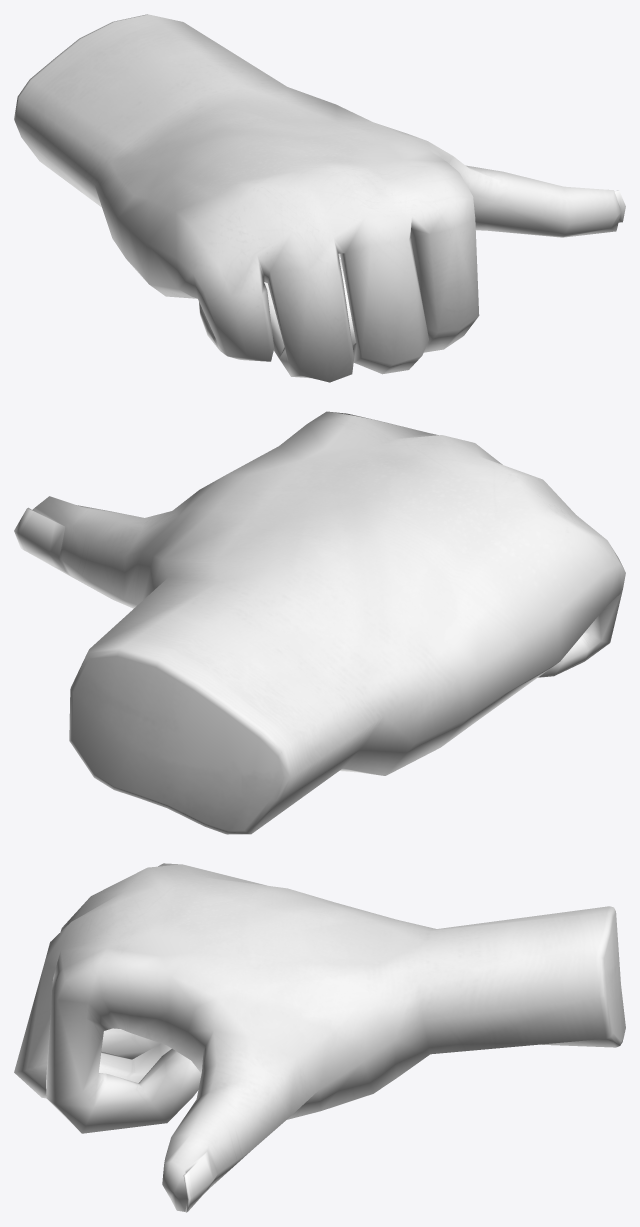
Rendered from r_smooth_thumbsUp.glb.
3 renders of one model, top to bottom at view 1: azimuth 30°, elevation 25°; view 2: azimuth 150°, elevation 25°; view 3: azimuth 270°, elevation 25°, orthographic. The views are drawn at different scales.
Parts seen in each view (by area): view 1: R_Smooth_ThumbsUp; view 2: R_Smooth_ThumbsUp; view 3: R_Smooth_ThumbsUp.
Part boxes in pixels (bbox=[...]): R_Smooth_ThumbsUp: bbox=[14, 14, 625, 382]; R_Smooth_ThumbsUp: bbox=[14, 411, 625, 834]; R_Smooth_ThumbsUp: bbox=[14, 863, 625, 1212].
Bounding box in the file's own units: 0.1637 × 0.0627 × 0.1765.
Materials: 1 (1 with a texture image).
